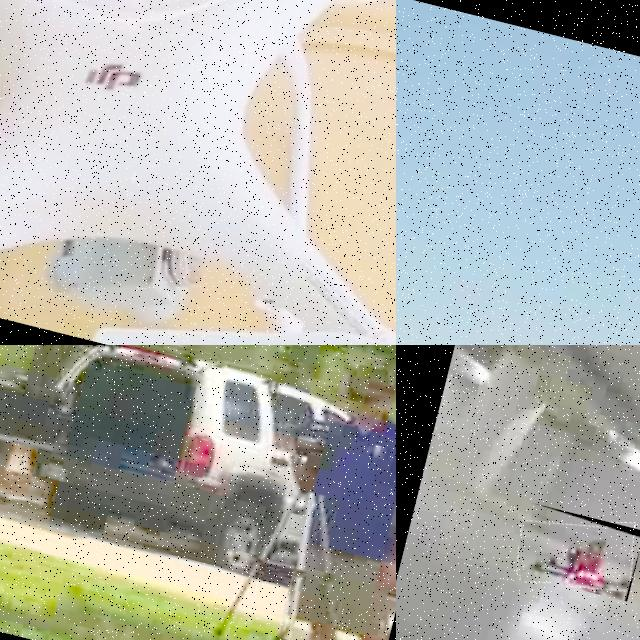drone: (0, 0, 396, 345), (511, 502, 640, 601)
